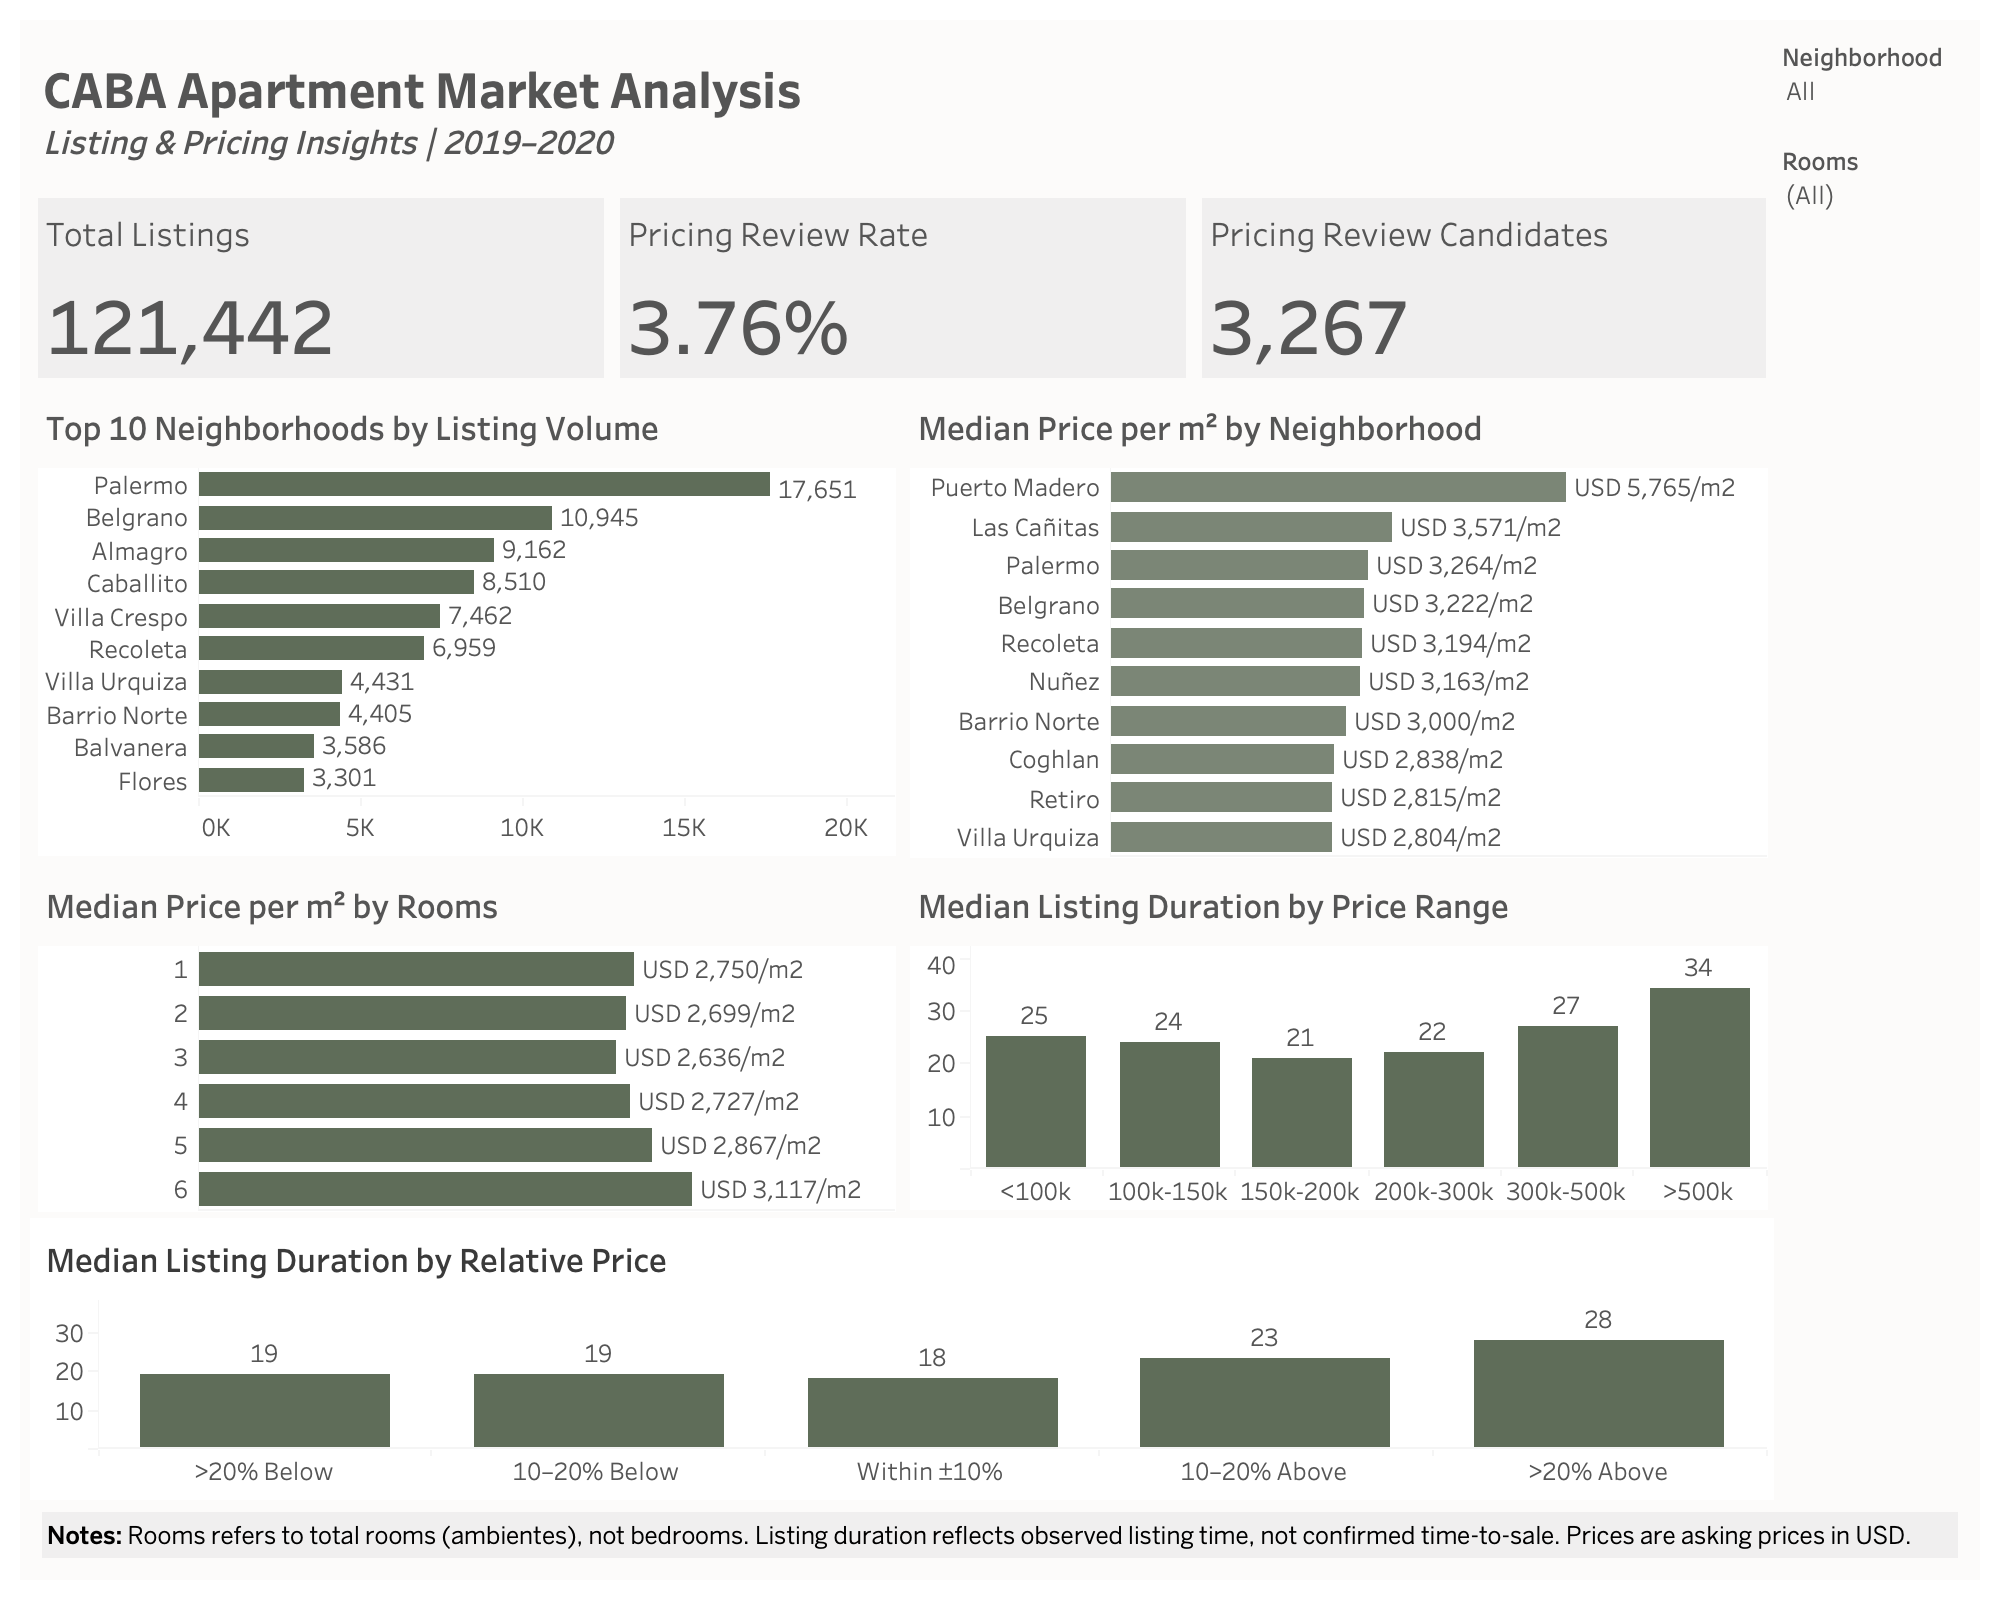

The dashboard page shown, as its layout file describes it:
{"tool":"tableau","page":{"name":"Dashboard 1","canvas":[1000,800],"ordinal":0},"visuals":[{"type":"title","box":[15,15,872,80]},{"type":"filter","title":"Total Listings","param":"[federated.12s1fvw1tgkimi1ewb6h01bbtnqb].[none:neighborhood:nk]","box":[887,15,98,52]},{"type":"parameter","param":"[Parameters].[Parameter 0298698624798729]","box":[887,67,98,52]},{"type":"worksheet","title":"Total Listings","mark":"Automatic","box":[15,95,291,98]},{"type":"worksheet","title":"Pricing Review Rate","mark":"Automatic","box":[306,95,291,98]},{"type":"worksheet","title":"Pricing Review Candidates","mark":"Automatic","box":[597,95,290,98]},{"type":"worksheet","title":"Top 10 Neighborhoods by Listing Volume","mark":"Automatic","rows":["neighborhood"],"cols":["id"],"box":[15,193,436,239]},{"type":"worksheet","title":"Median Price per m² by Neighborhood","mark":"Automatic","rows":["neighborhood"],"cols":["price_per_m2"],"box":[451,193,436,239]},{"type":"worksheet","title":"Median Price per m² by Rooms","mark":"Automatic","rows":["rooms"],"cols":["price_per_m2"],"box":[15,432,436,177]},{"type":"worksheet","title":"Median Listing Duration by Price Range","mark":"Automatic","rows":["listing_duration_days"],"cols":["price_range"],"box":[451,432,436,177]},{"type":"worksheet","title":"Relative Price Category","mark":"Automatic","rows":["listing_duration_days"],"cols":["Calculation_0298698311385090"],"box":[15,609.1,872,140.5]},{"type":"text","box":[15,749.6,970,35.4]}]}

Visuals, with their boxes in screenshot pixels (x1, y1, x2, y2), scaled from the page's 1000x800 canvas onto the 2000x1600 screenshot:
title: [left=30, top=30, right=1774, bottom=190]
"Total Listings" filter: [left=1774, top=30, right=1970, bottom=134]
parameter: [left=1774, top=134, right=1970, bottom=238]
"Total Listings" worksheet: [left=30, top=190, right=612, bottom=386]
"Pricing Review Rate" worksheet: [left=612, top=190, right=1194, bottom=386]
"Pricing Review Candidates" worksheet: [left=1194, top=190, right=1774, bottom=386]
"Top 10 Neighborhoods by Listing Volume" worksheet: [left=30, top=386, right=902, bottom=864]
"Median Price per m² by Neighborhood" worksheet: [left=902, top=386, right=1774, bottom=864]
"Median Price per m² by Rooms" worksheet: [left=30, top=864, right=902, bottom=1218]
"Median Listing Duration by Price Range" worksheet: [left=902, top=864, right=1774, bottom=1218]
"Relative Price Category" worksheet: [left=30, top=1218, right=1774, bottom=1499]
text: [left=30, top=1499, right=1970, bottom=1570]
